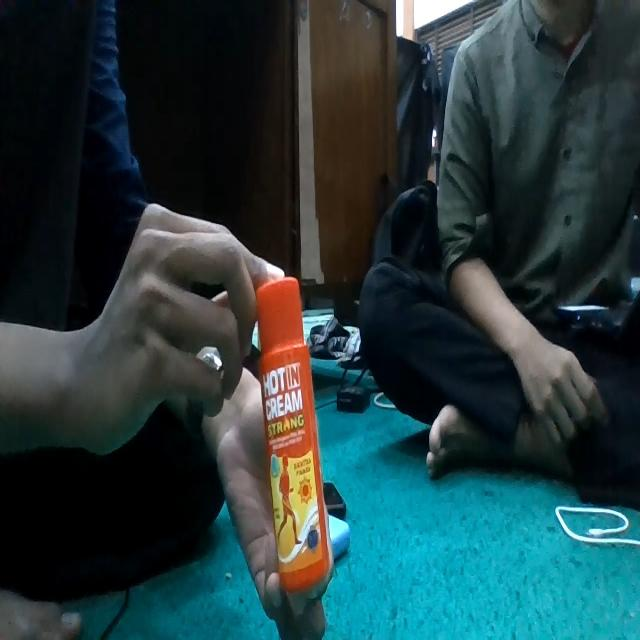Boncabe: (256, 277, 334, 604), (270, 455, 280, 476)
Powerbank: (328, 513, 350, 561)
